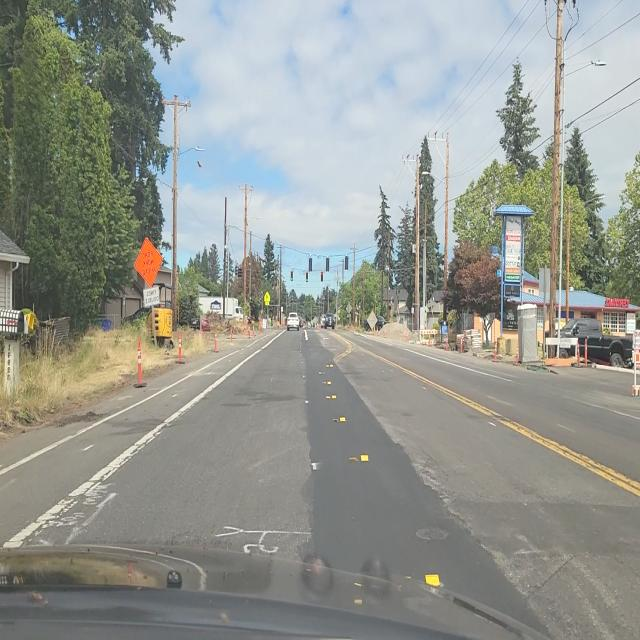car: (551, 317, 634, 369), (356, 315, 381, 333), (191, 315, 211, 331), (319, 313, 336, 330), (286, 312, 300, 332), (375, 316, 385, 330)
crosswalk-sign: (264, 292, 270, 305)
delineator: (134, 336, 146, 387), (178, 330, 184, 364), (583, 338, 589, 368), (576, 339, 582, 368), (214, 328, 218, 353), (494, 340, 498, 362), (515, 346, 519, 366), (229, 325, 233, 343), (248, 320, 252, 338), (251, 319, 255, 337), (445, 337, 449, 351), (240, 322, 244, 335), (404, 328, 408, 341), (383, 325, 387, 337), (259, 319, 262, 333)
